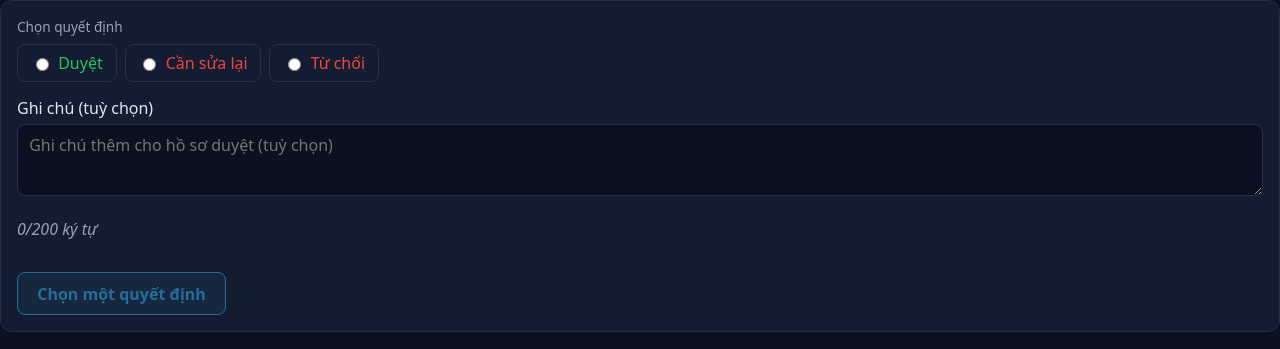
Test: APPROVE không cần ghi chú
What coordinates should you click on to do the following:
click the radio button labelled "Duyệt"
I would click on:
 (42, 65)
Its box is [36,58,49,71].
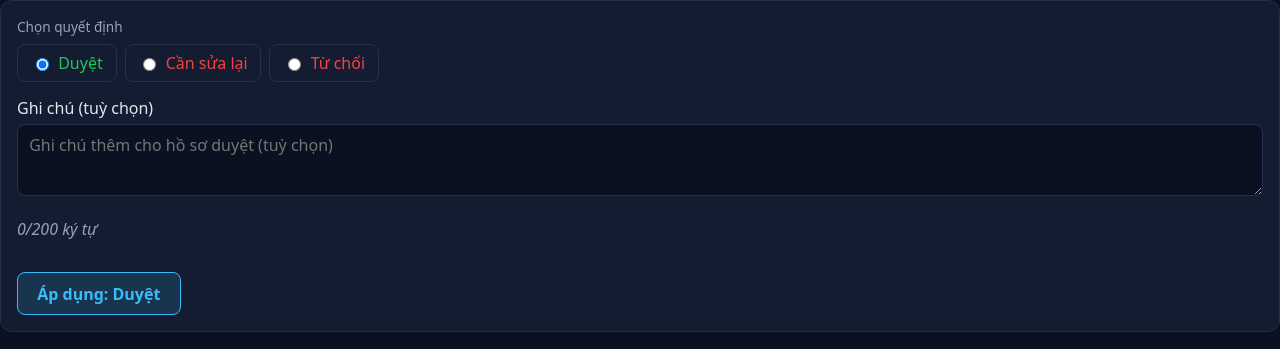
Result: the button "Áp dụng: Duyệt" is enabled at [17,272,181,315]
